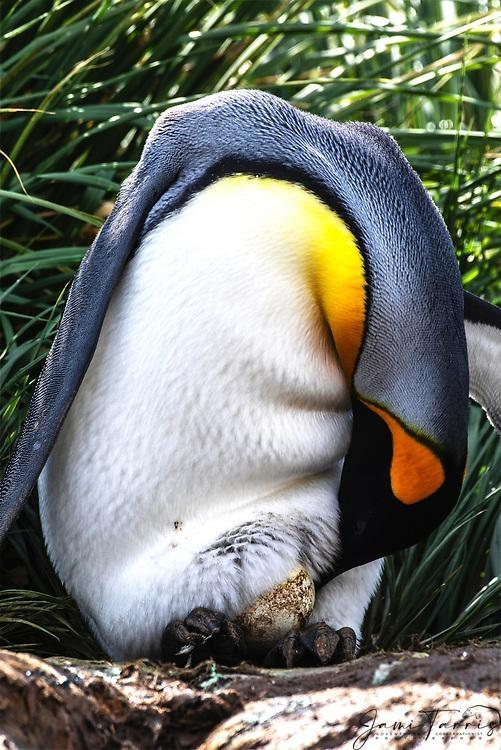Penguin: (3, 91, 501, 659)
